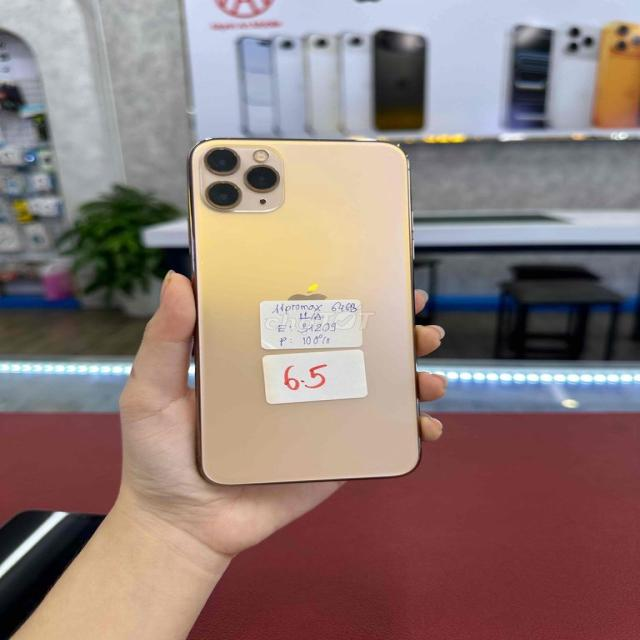gen_11: (169, 128, 434, 496)
